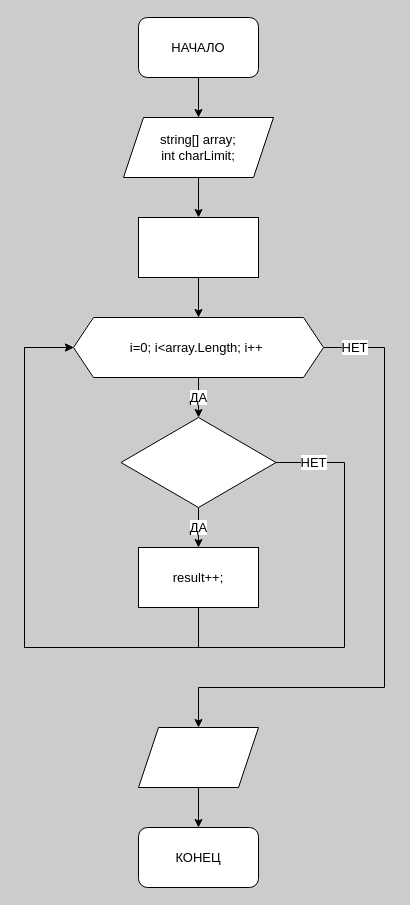
Some shapes in this 410 by 905 pixel diagram are drawn without their labels. The centre of each missing label's shape, as x and y in pixels:
"aray[i].Length <= charLimit" belongs at (198,462).
"int result = 0;" belongs at (198,247).
"return result;" belongs at (198,757).
